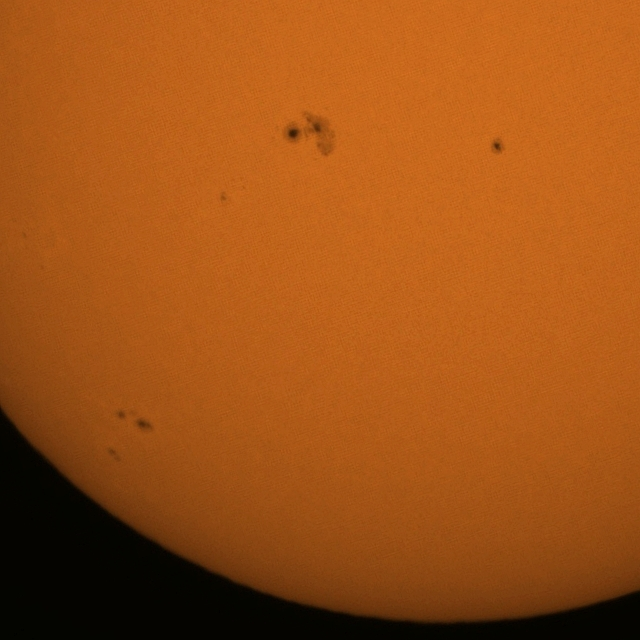sunspot: (288, 112, 336, 161), (490, 137, 506, 156), (108, 447, 120, 463)
